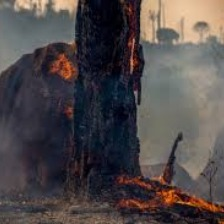incendio: (109, 177, 219, 211), (33, 53, 78, 115)
